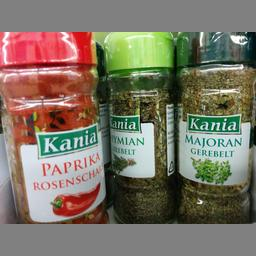spices: (0, 31, 106, 222), (174, 31, 252, 222), (102, 30, 177, 220)
